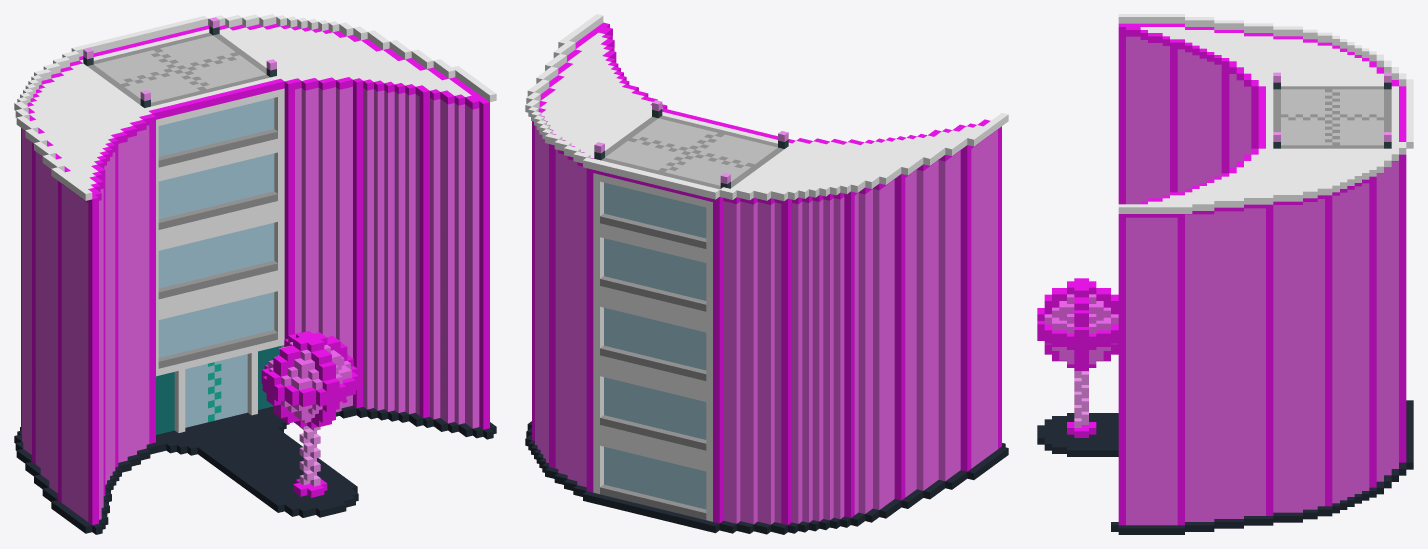
File: headquarters.obj
The picture shows the model from 3 angles, left to right: view 1: azimuth 30°, elevation 25°; view 2: azimuth 150°, elevation 25°; view 3: azimuth 270°, elevation 25°; orthographic projection. The views are drawn at different scales.
Bounding box in the file's own units: 6.2 × 5 × 5.1.
1 material, 1 textured.
